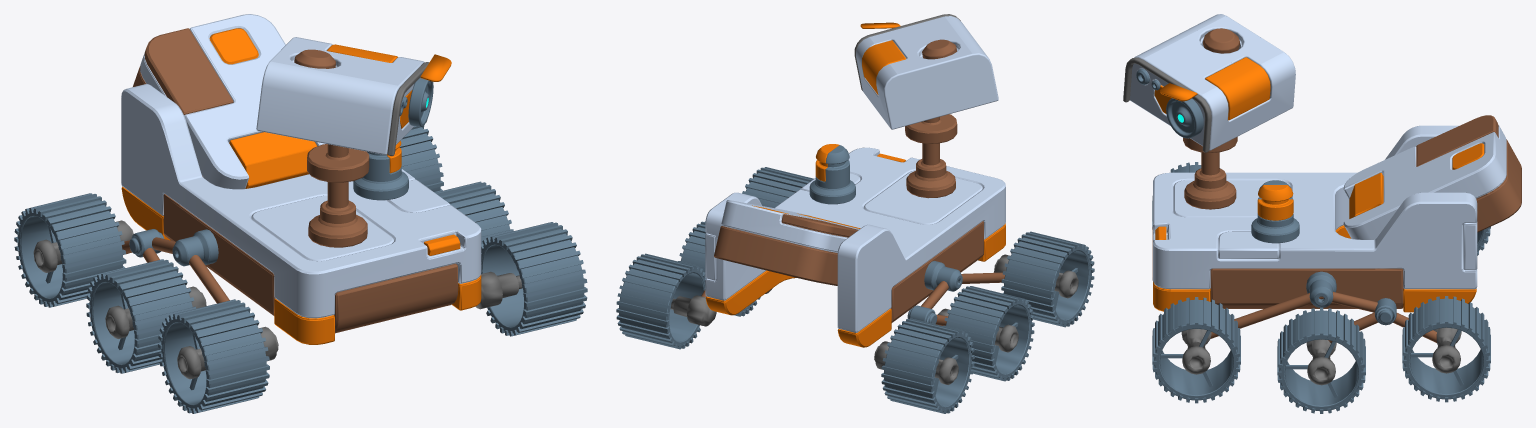
File: rover-body.glb
The picture shows the model from 3 angles, left to right: view 1: azimuth 30°, elevation 25°; view 2: azimuth 150°, elevation 25°; view 3: azimuth 270°, elevation 25°; orthographic projection. The views are drawn at different scales.
Visible parts, largest first — view 1: Rover, RoverHead, RoverHeadFlat; view 2: Rover, RoverHead, RoverHeadFlat; view 3: Rover, RoverHead, RoverHeadFlat.
Part boxes in pixels (x1,y1,x2,y2): Rover: (14,14,587,413); RoverHead: (256,37,451,155); RoverHeadFlat: (271,37,420,85); Rover: (616,114,1094,413); RoverHead: (854,14,998,129); RoverHeadFlat: (869,16,971,73); Rover: (1152,115,1521,413); RoverHead: (1123,14,1295,152); RoverHeadFlat: (1144,16,1283,94).
Bounding box in the file's own units: 3.75 × 3.06 × 3.91.
